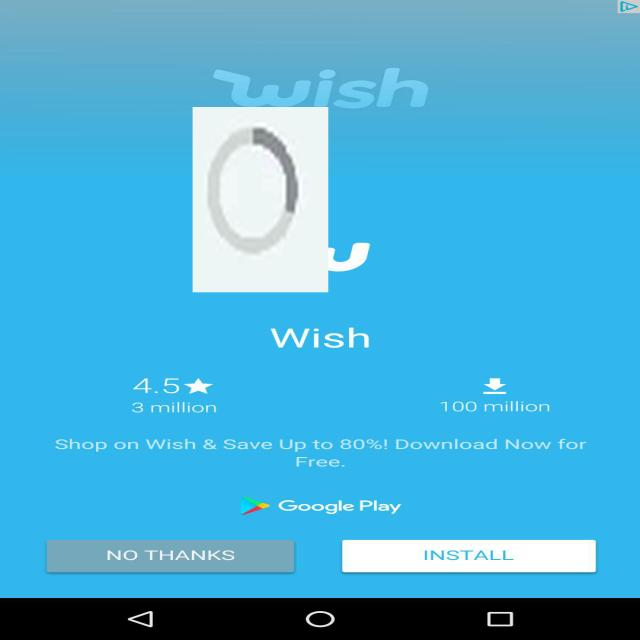misdirection: (193, 107, 328, 292)
